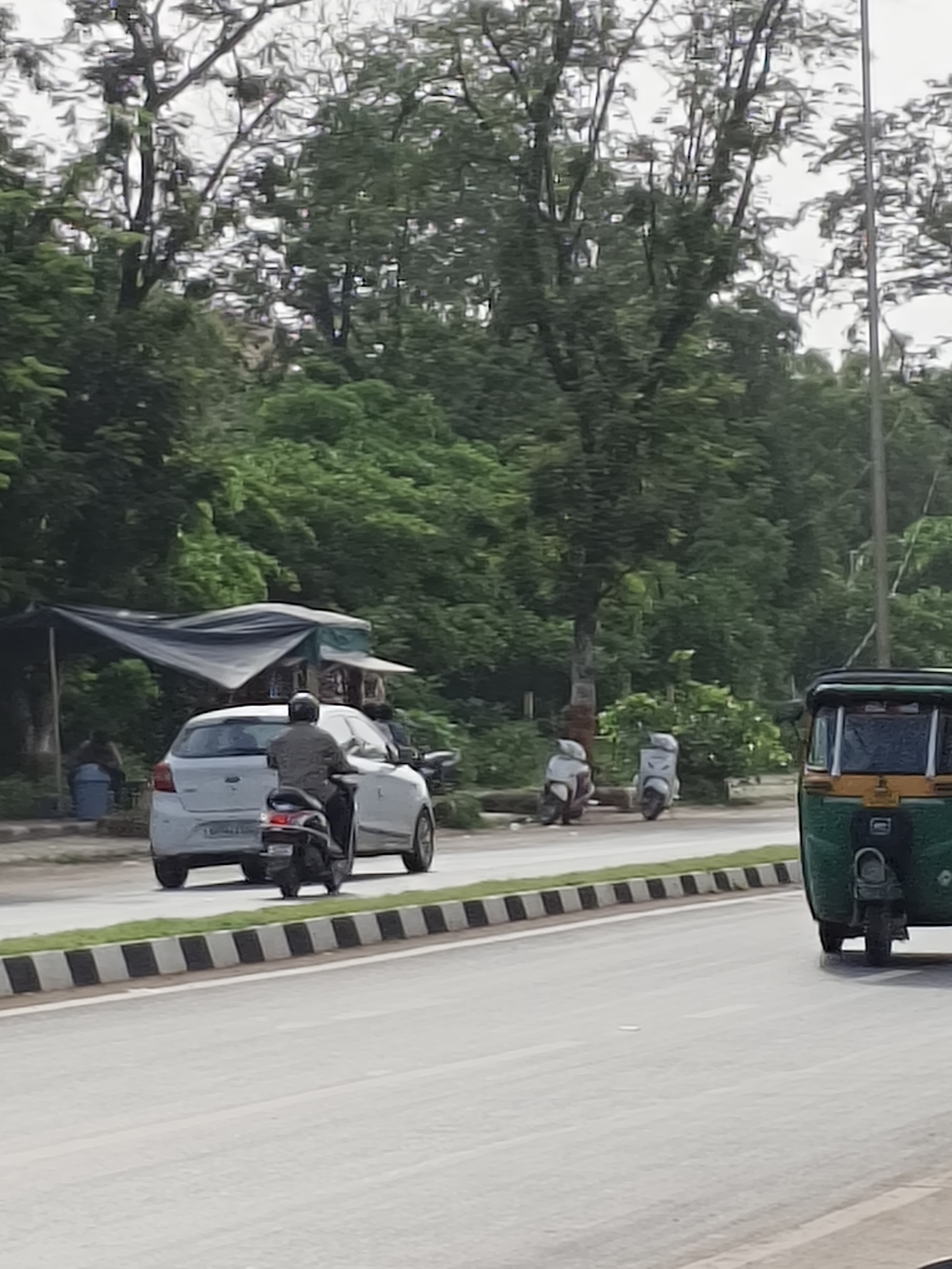BikeWithRider: (254, 691, 364, 898)
Helmet: (284, 692, 322, 727)
